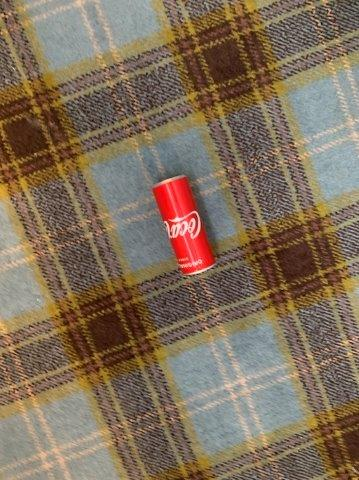kaleng: (152, 175, 216, 274)
